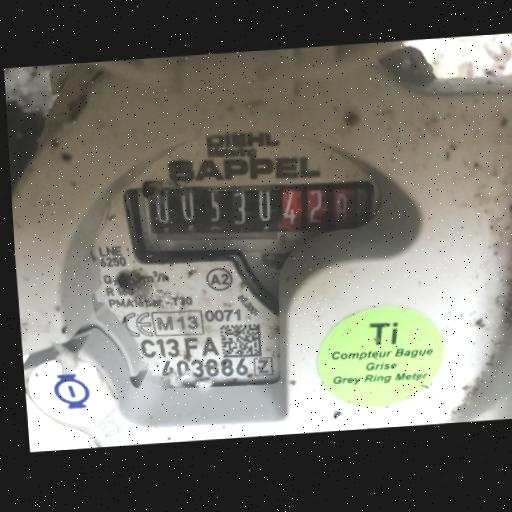0: (249, 184, 281, 234), (173, 186, 204, 235), (148, 187, 177, 235)
2: (302, 183, 334, 231)
3: (224, 184, 255, 233)
4: (276, 182, 308, 232)
5: (199, 185, 230, 234)
8: (326, 181, 361, 232)
border_water_meter_number: (121, 171, 380, 275)
